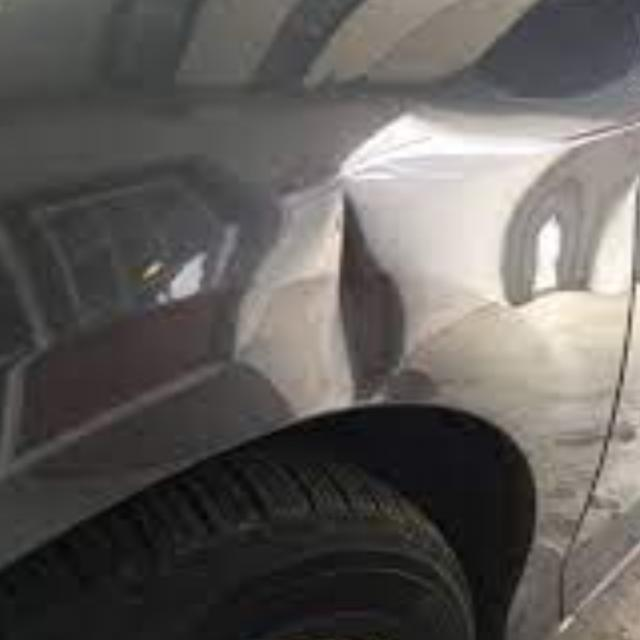dents: (247, 193, 473, 414)
